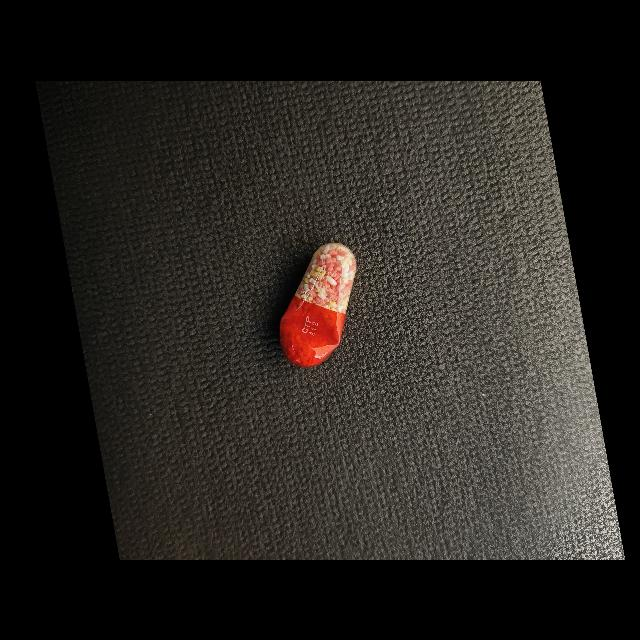Defective Capsule: (279, 242, 357, 366)
